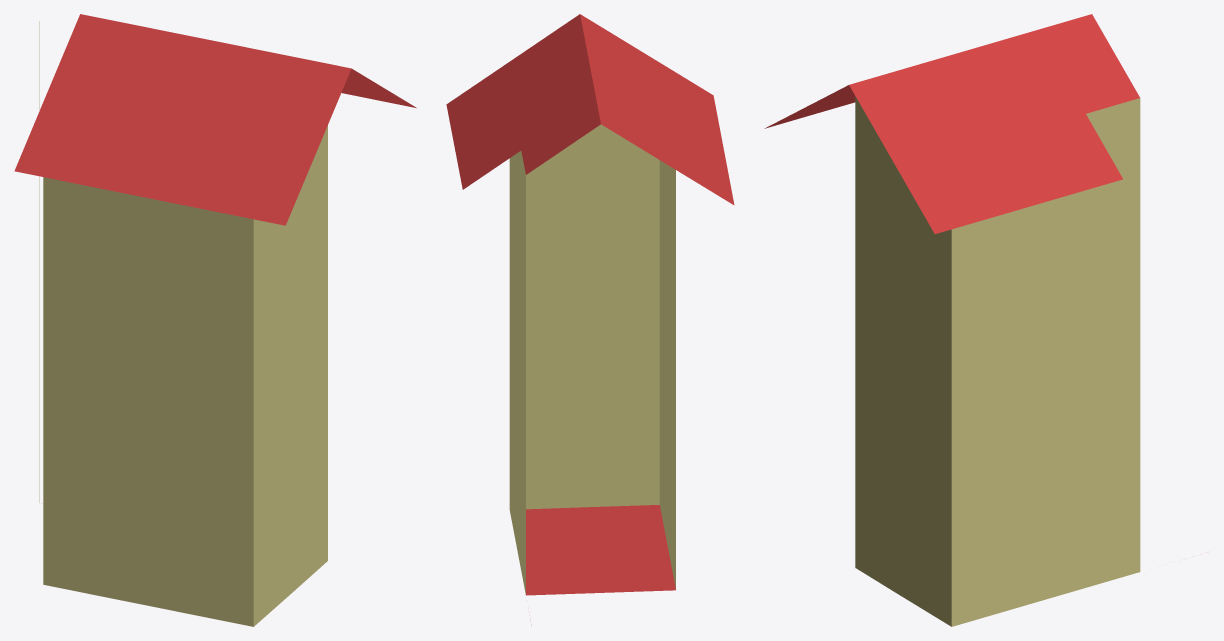
The picture shows the model from 3 angles, left to right: view 1: azimuth 30°, elevation 25°; view 2: azimuth 150°, elevation 25°; view 3: azimuth 270°, elevation 25°; orthographic projection. The views are drawn at different scales.
Size of the model in its own units: 6.29 by 6.74 by 8.81.
